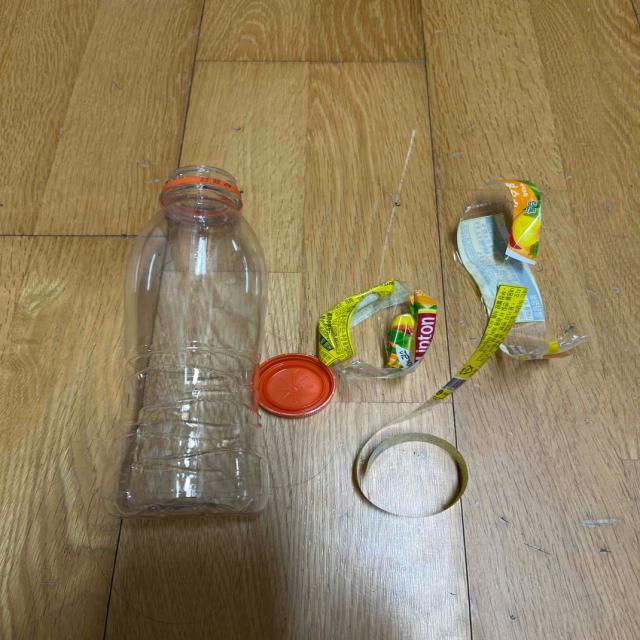chai: (104, 168, 269, 516)
